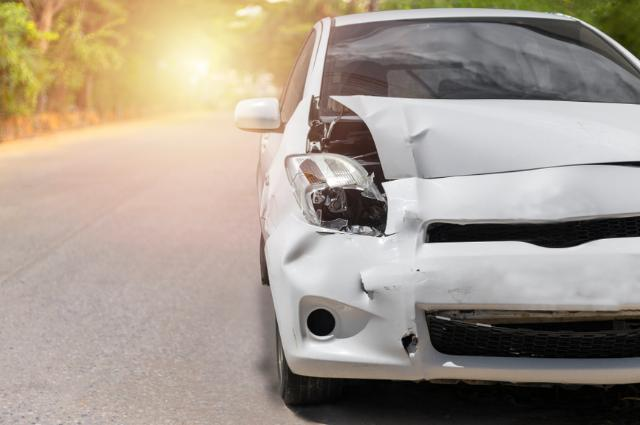Bonnet: (322, 93, 640, 209)
Bumper: (274, 229, 500, 375)
Light: (292, 147, 376, 230)
